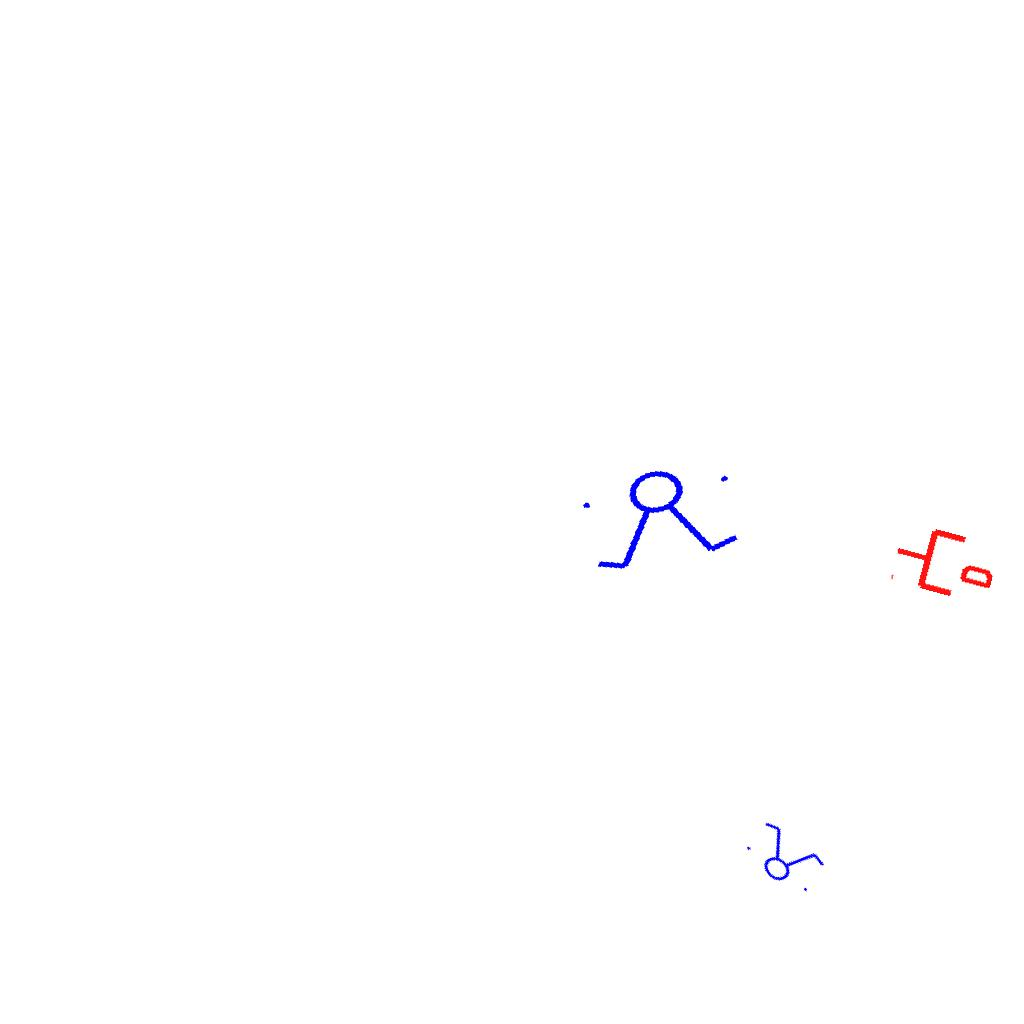Datenanschluss_einfach: (887, 516, 1002, 610)
Serienschalter: (570, 453, 754, 581), (735, 813, 833, 903)
